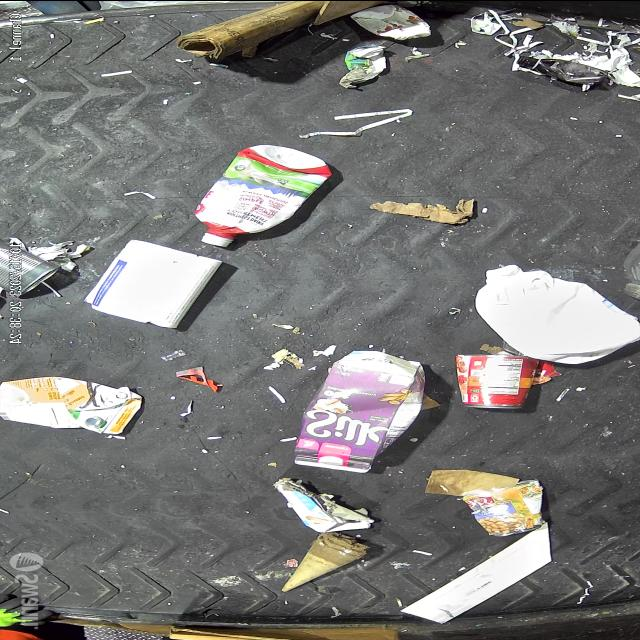can: (446, 346, 539, 414), (0, 245, 67, 303)
milk_jug: (470, 256, 640, 371)
